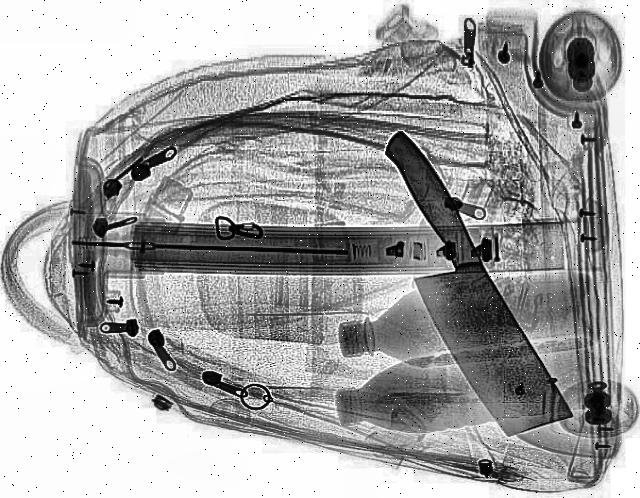Knife: (342, 126, 578, 440)
